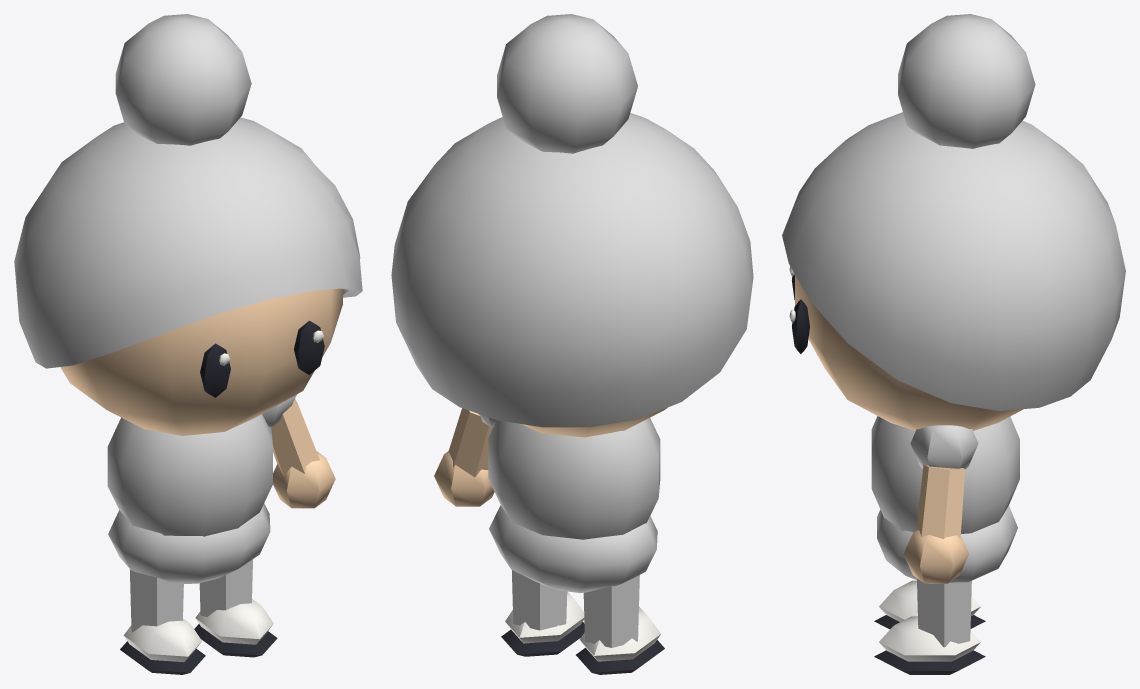
Rendered from guyh_bun_w.fbx.
The picture shows the model from 3 angles, left to right: view 1: azimuth 30°, elevation 25°; view 2: azimuth 150°, elevation 25°; view 3: azimuth 270°, elevation 25°; orthographic projection. The views are drawn at different scales.
Visible parts, largest first — view 1: guyh_bun_w; view 2: guyh_bun_w; view 3: guyh_bun_w.
Part boxes in pixels (x1,y1,x2,y2): guyh_bun_w: (14, 14, 362, 674); guyh_bun_w: (391, 14, 753, 674); guyh_bun_w: (782, 14, 1125, 674).
Bounding box in the file's own units: 0.4409 × 0.8627 × 0.4267.
